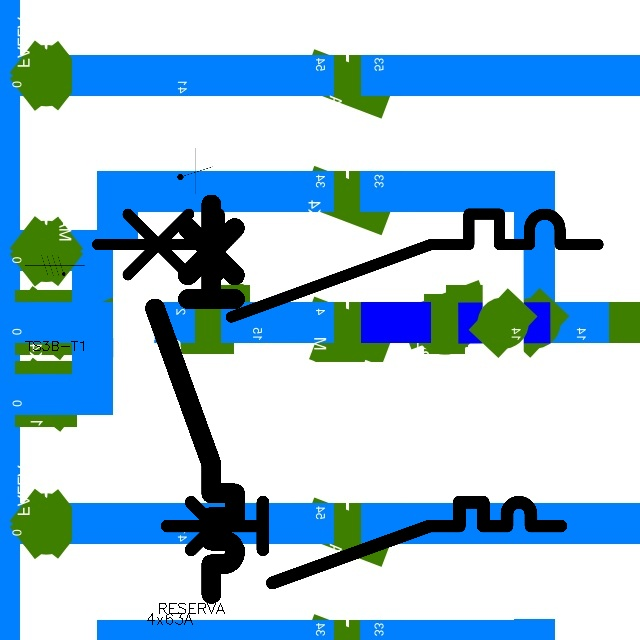interruptor_termomagnetico: (84, 201, 611, 330), (157, 492, 571, 593), (145, 194, 245, 604)
